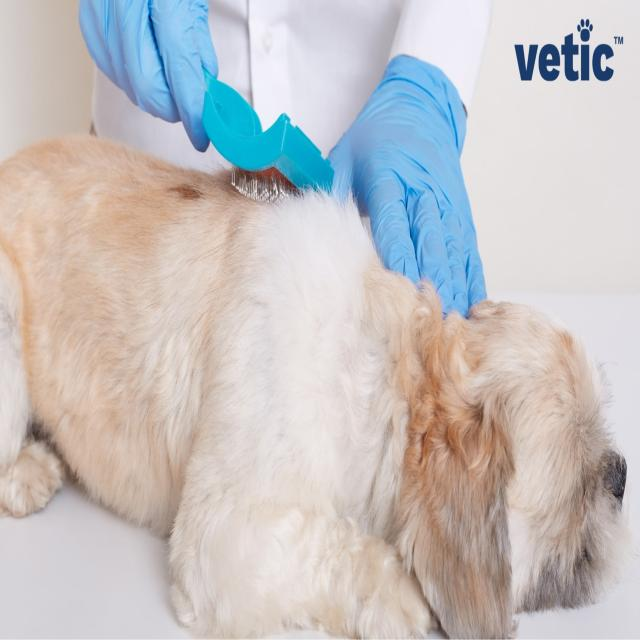fungal infection: (164, 176, 213, 218)
